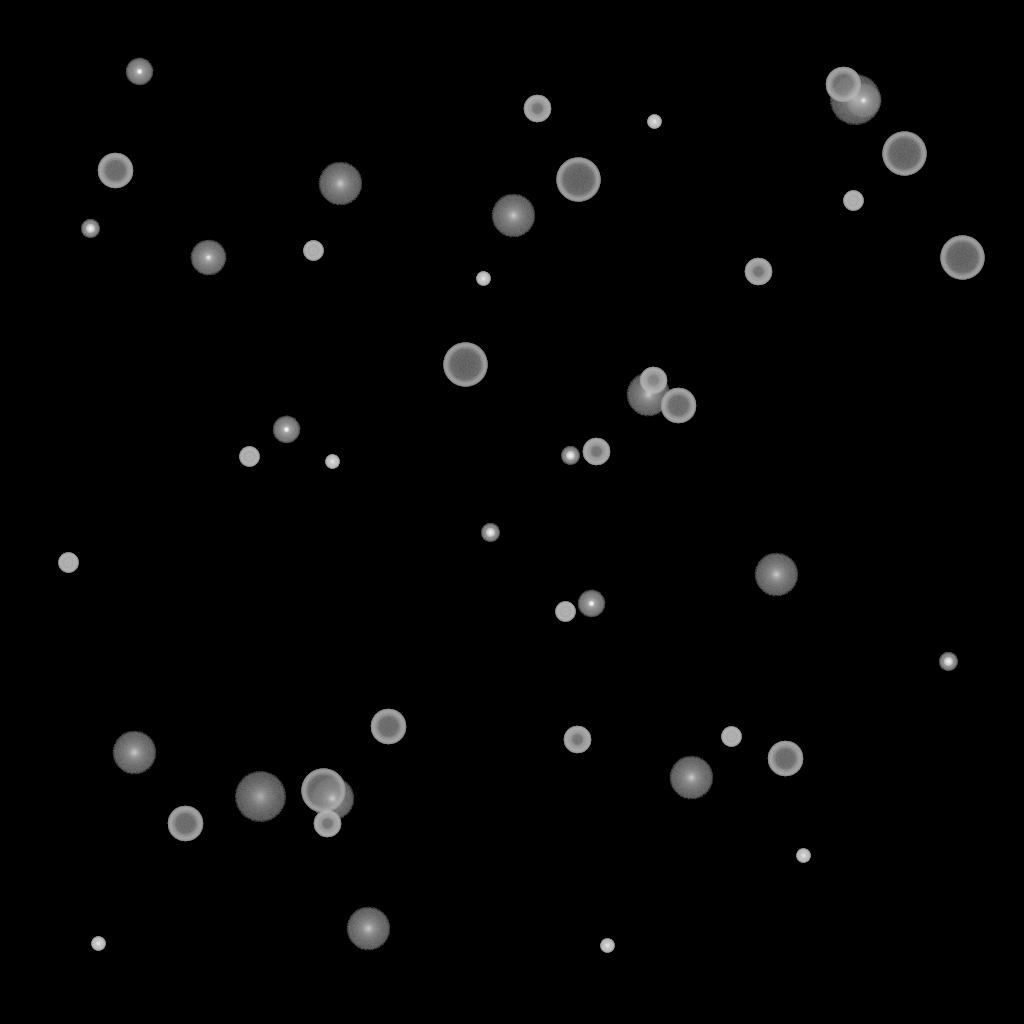depth:-10: (272, 416, 300, 444), (125, 58, 153, 86), (577, 590, 605, 618)
depth:-20: (81, 220, 99, 238), (561, 447, 579, 465), (939, 653, 957, 671), (481, 524, 499, 542)
depth:-30: (600, 939, 614, 953), (796, 849, 810, 863), (91, 937, 105, 951), (647, 115, 661, 129), (325, 455, 339, 469), (476, 272, 490, 286)
depth:-40: (721, 727, 741, 747), (843, 191, 863, 211), (58, 553, 78, 573), (555, 602, 575, 622), (239, 447, 259, 467), (303, 241, 323, 261)
depth:-50: (744, 258, 772, 286), (313, 810, 341, 838), (523, 95, 551, 123), (582, 438, 610, 466), (563, 726, 591, 754), (639, 367, 667, 395)
depth:-60: (825, 67, 861, 103), (97, 153, 133, 189), (767, 741, 803, 777), (370, 709, 406, 745), (660, 388, 696, 424), (167, 806, 203, 842)
depth:-70: (940, 236, 984, 280), (556, 158, 600, 202), (882, 132, 926, 176), (443, 343, 487, 387), (301, 769, 345, 813)
depth:0: (190, 240, 226, 276), (845, 83, 881, 119)
depth:10: (491, 194, 535, 238), (626, 373, 670, 417), (754, 553, 798, 597), (310, 777, 354, 821), (669, 756, 713, 800), (318, 162, 362, 206), (346, 907, 390, 951), (112, 731, 156, 775)
depth:20: (234, 772, 286, 822), (829, 75, 881, 125)
